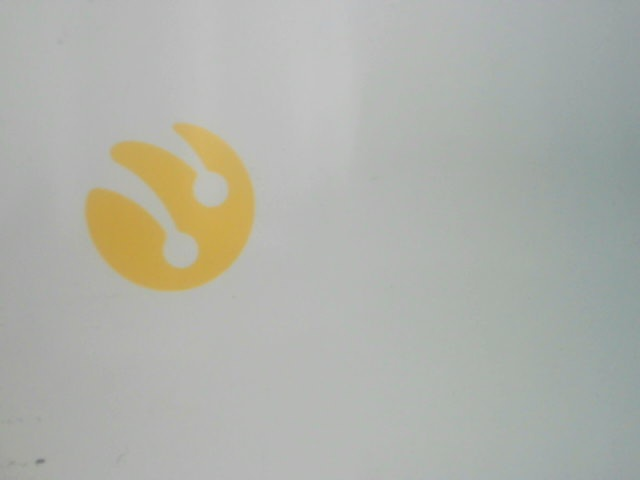AV_H3600Yellow: (57, 113, 276, 295)
